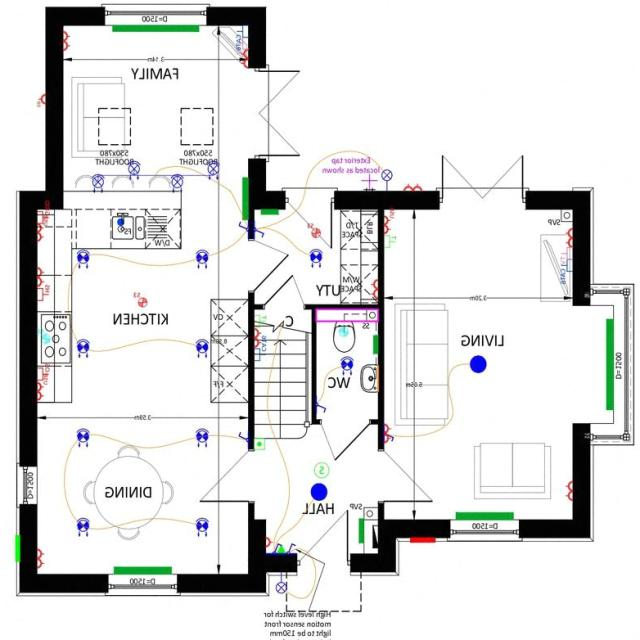BT Entry Point: (280, 543, 286, 553)
Cat 6 Data Socket: (255, 334, 268, 360), (561, 258, 574, 283), (236, 25, 249, 49)
Ceiling Mounted Continuous Extract FanWith Boost Mode Activated By Light Switch: (340, 326, 350, 334)
Ceiling Mounted Continuous Extract FanWith Local Boost Switch: (134, 291, 148, 307), (308, 222, 321, 237)
Co-Ax TV Socket: (561, 246, 574, 264), (237, 37, 249, 53)
Consumer Unit: (373, 524, 379, 547)
Double Socket: (38, 548, 46, 568), (371, 278, 379, 298), (566, 480, 574, 500), (38, 266, 46, 286), (404, 182, 423, 190), (254, 327, 262, 346), (566, 228, 574, 247), (64, 30, 71, 51), (241, 49, 249, 67), (385, 423, 392, 443)
Electric Meter Box: (411, 536, 437, 543)
External Wall Light: (277, 570, 287, 592), (383, 168, 393, 190)
Gas Meter Box: (16, 534, 22, 560)
Grid Switch: (38, 200, 50, 222)
Hob Switch: (38, 284, 52, 300)
Light Switch: (238, 431, 250, 441), (318, 401, 328, 413), (239, 220, 249, 231), (274, 542, 284, 552), (288, 542, 297, 552), (384, 433, 394, 442), (255, 228, 265, 236)
Low Energy Downlighter: (341, 355, 355, 375), (197, 516, 210, 536), (78, 516, 91, 536), (197, 427, 210, 447), (197, 249, 210, 268), (78, 249, 91, 268), (197, 338, 210, 357), (78, 427, 90, 447), (311, 248, 323, 267), (78, 338, 90, 357)
Low Energy Pendant Light: (470, 354, 488, 372), (311, 482, 328, 500)
Mains Wired Smoke Detector: (316, 462, 331, 478)
Outside Socket: (38, 94, 46, 106)
Outside Tap: (363, 174, 378, 189)
Oven Switch: (38, 362, 51, 380)
Programmable Room Thermostat: (256, 437, 265, 449)
Radiator: (607, 318, 615, 410), (456, 510, 514, 520), (113, 25, 200, 31), (114, 566, 172, 574), (244, 176, 249, 219), (359, 517, 365, 543), (374, 334, 379, 354), (263, 209, 280, 214)
Single Socket: (267, 537, 275, 546)
Telephone Socket: (385, 234, 398, 246), (255, 314, 267, 326)
Track Light: (92, 160, 220, 192)
USB Double Socket: (386, 208, 396, 233), (38, 216, 48, 241), (38, 375, 48, 399)
Water Entry Position: (118, 218, 125, 225)
